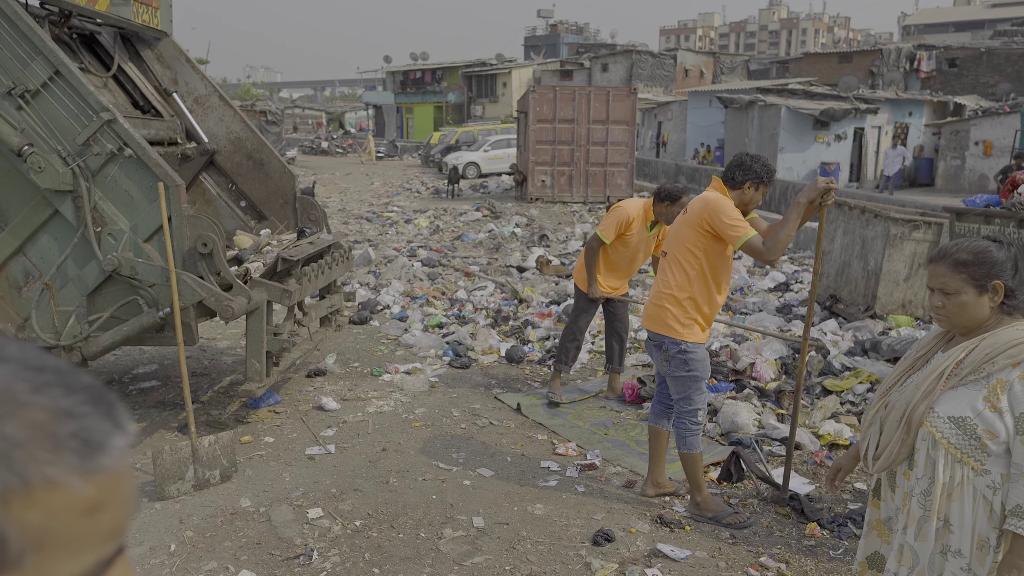garbage: (715, 390, 766, 439), (816, 362, 879, 392), (400, 325, 446, 354), (653, 541, 695, 564), (502, 340, 534, 369), (444, 343, 475, 369), (589, 524, 618, 549), (347, 306, 375, 327), (554, 437, 579, 460), (357, 296, 384, 315), (318, 395, 341, 413), (304, 366, 329, 381), (540, 457, 562, 473), (565, 464, 581, 478)
